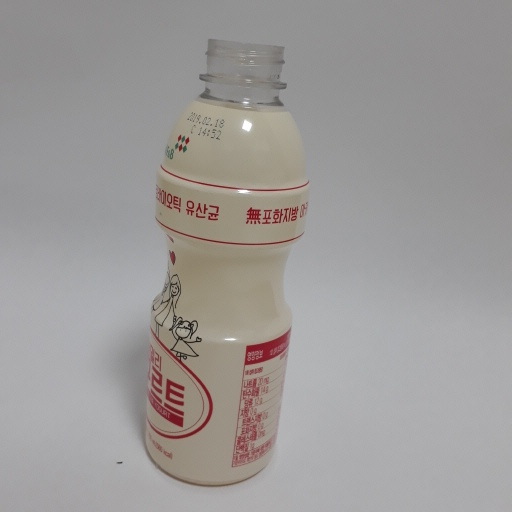Plastic_0: (141, 35, 310, 486)
